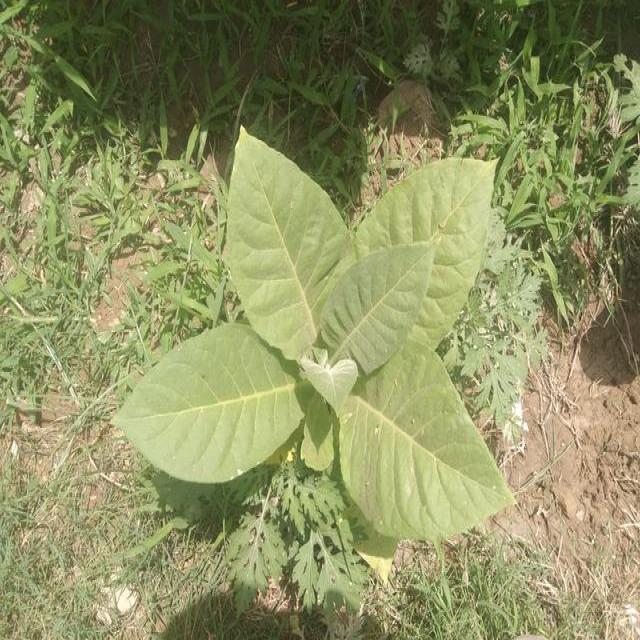crop: (114, 126, 516, 546)
